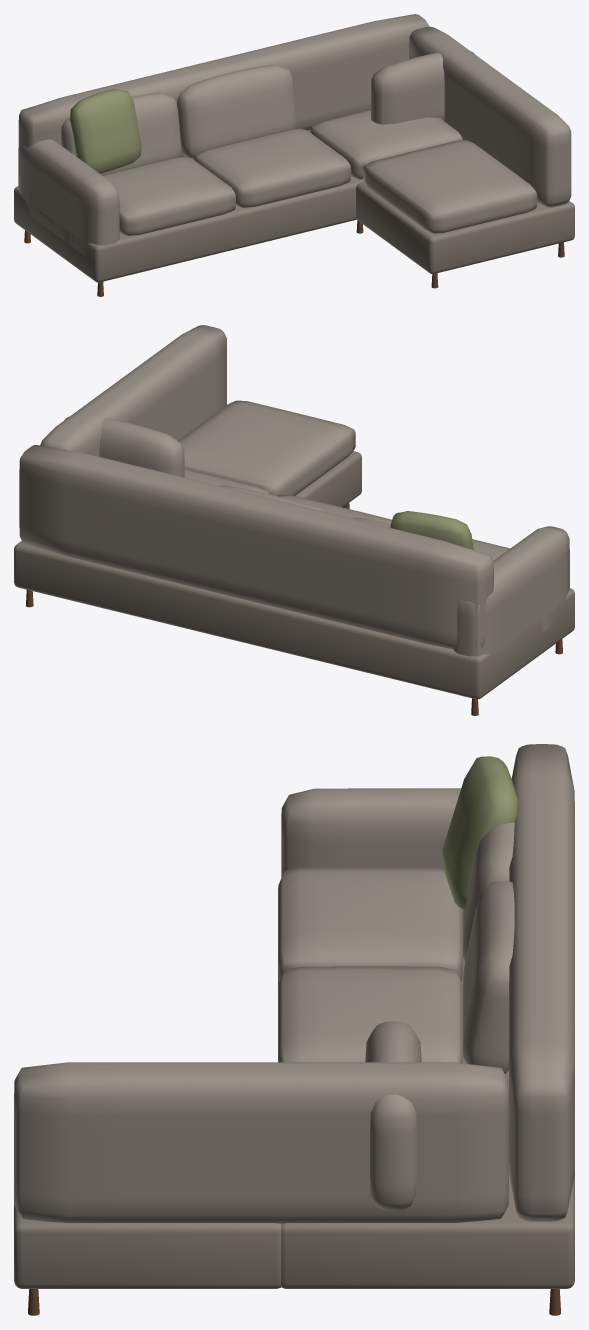
The model's file is sofaL.glb.
The picture shows the model from 3 angles, top to bottom: view 1: azimuth 30°, elevation 25°; view 2: azimuth 150°, elevation 25°; view 3: azimuth 270°, elevation 25°; orthographic projection. The views are drawn at different scales.
Visible parts, largest first — view 1: soft, soft.001, box, soft.008, box.001, soft.005, soft.006, soft.002, soft.004, soft.007, soft.010, soft.009 (+1 smaller); view 2: soft, box, soft.001, soft.008, soft.002, soft.009, box.001, soft.010, soft.006, soft.007; view 3: soft.001, soft, box, soft.004, box.001, soft.006, soft.002, soft.005, soft.009, soft.010, soft.003.
Boxes of the visible parts, x1,y1,x2,y2 form: soft: [18, 14, 429, 182]; soft.001: [409, 26, 571, 207]; box: [14, 130, 363, 282]; soft.008: [363, 140, 537, 233]; box.001: [356, 182, 574, 273]; soft.005: [177, 64, 296, 158]; soft.006: [193, 128, 351, 207]; soft.002: [18, 139, 119, 256]; soft.004: [102, 156, 235, 235]; soft.007: [309, 109, 462, 179]; soft.010: [70, 89, 141, 173]; soft.009: [371, 51, 474, 124]; soft: [19, 445, 493, 649]; box: [14, 541, 574, 699]; soft.001: [40, 325, 226, 456]; soft.008: [178, 400, 355, 495]; soft.002: [453, 526, 569, 663]; soft.009: [64, 417, 184, 477]; box.001: [295, 451, 361, 507]; soft.010: [390, 511, 473, 549]; soft.006: [277, 494, 391, 523]; soft.007: [184, 469, 269, 494]; soft.001: [14, 1062, 508, 1223]; soft: [509, 744, 574, 1221]; box: [278, 888, 574, 1288]; soft.004: [278, 867, 462, 981]; box.001: [14, 1194, 281, 1288]; soft.006: [278, 966, 462, 1063]; soft.002: [281, 788, 460, 877]; soft.005: [463, 881, 514, 1074]; soft.009: [365, 1021, 421, 1210]; soft.010: [442, 756, 518, 910]; soft.003: [463, 822, 514, 961].
Size of the model in its own units: 255 by 86.47 by 170.
